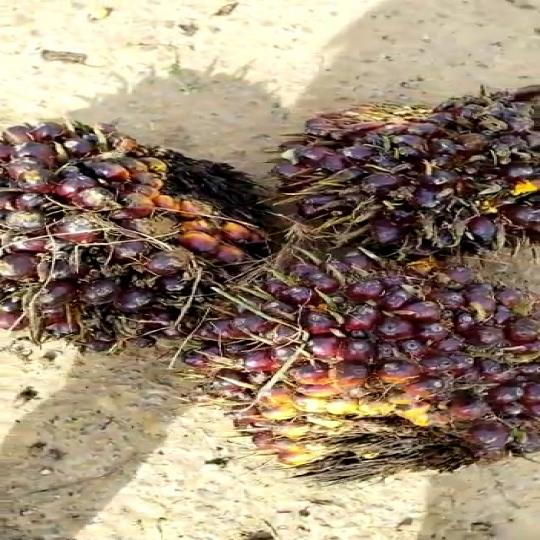kurang masak: (174, 243, 538, 476), (0, 99, 259, 351), (255, 69, 540, 262)
